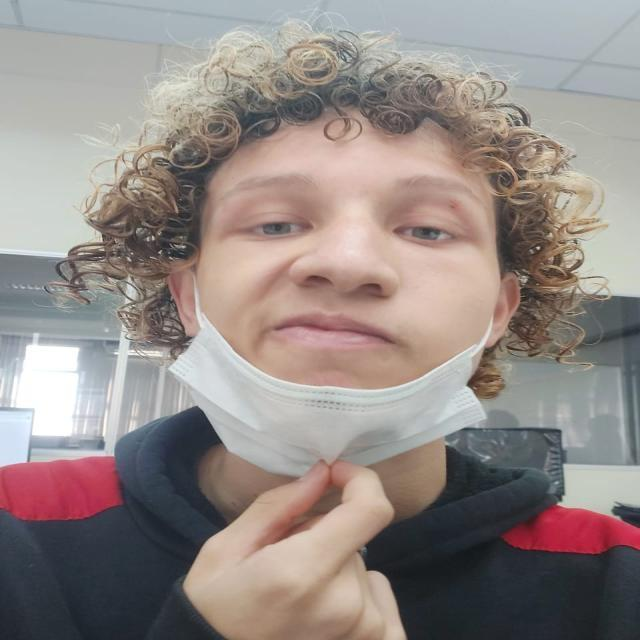hairnet: (193, 138, 494, 449)
